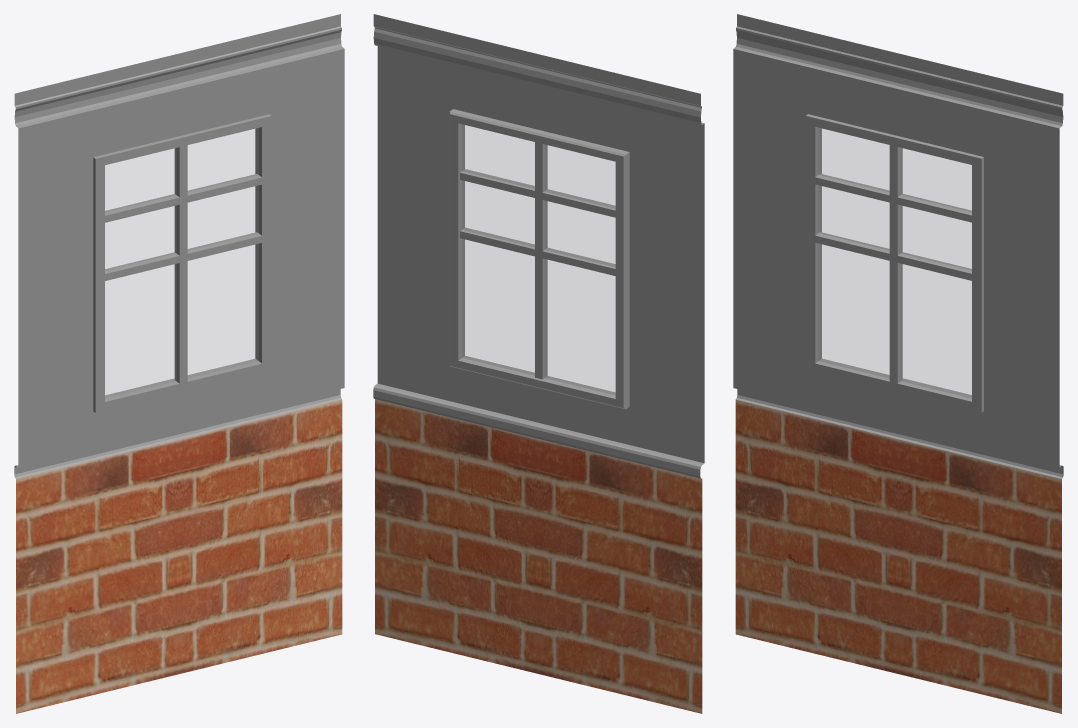
Rendered from SM_MurFenetre.fbx.
The picture shows the model from 3 angles, left to right: view 1: azimuth 30°, elevation 25°; view 2: azimuth 150°, elevation 25°; view 3: azimuth 330°, elevation 25°; orthographic projection.
Visible parts, largest first — view 1: SM_MurFenetre; view 2: SM_MurFenetre; view 3: SM_MurFenetre.
Boxes of the visible parts, x1,y1,x2,y2 form: SM_MurFenetre: (14, 14, 344, 713); SM_MurFenetre: (373, 14, 704, 713); SM_MurFenetre: (733, 14, 1063, 713).
Size of the model in its own units: 146 by 264 by 5.27.
Materials: 6 (1 with a texture image).
